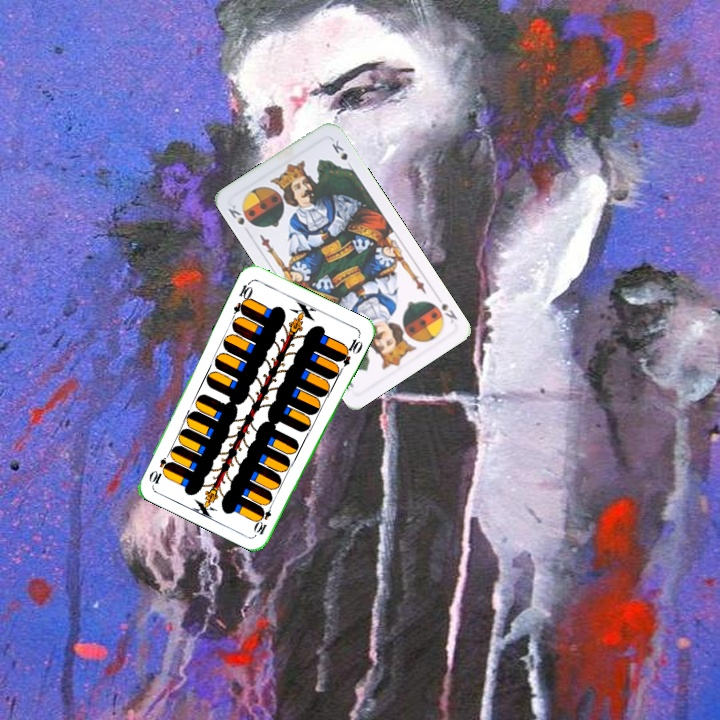E10: (229, 277, 255, 317), (252, 498, 276, 538)
SK: (431, 291, 460, 325), (224, 200, 247, 228)
